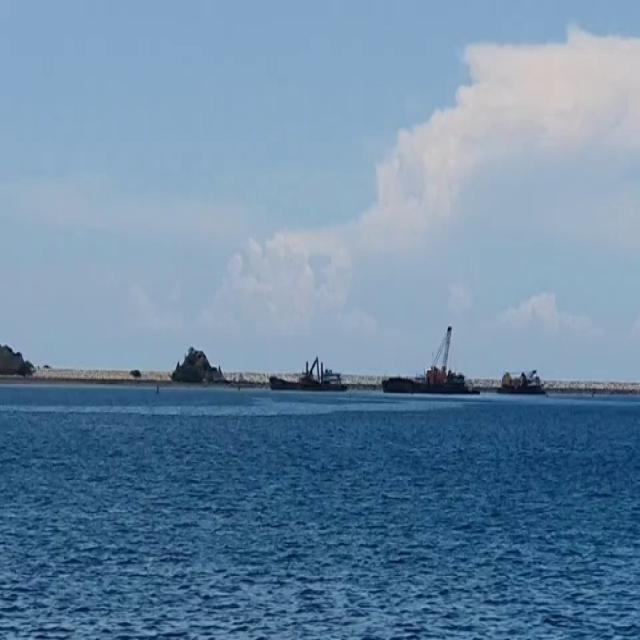civilianship: (376, 339, 491, 425), (256, 356, 361, 424), (502, 360, 548, 422)
